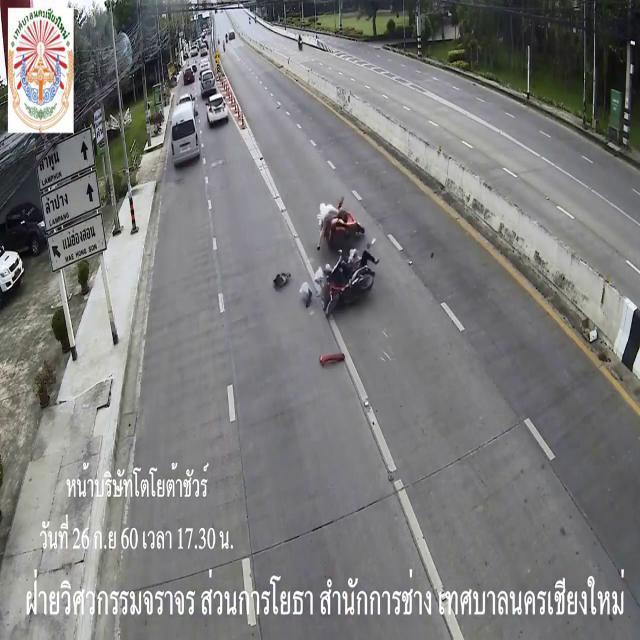car Accident: (275, 133, 374, 354)
